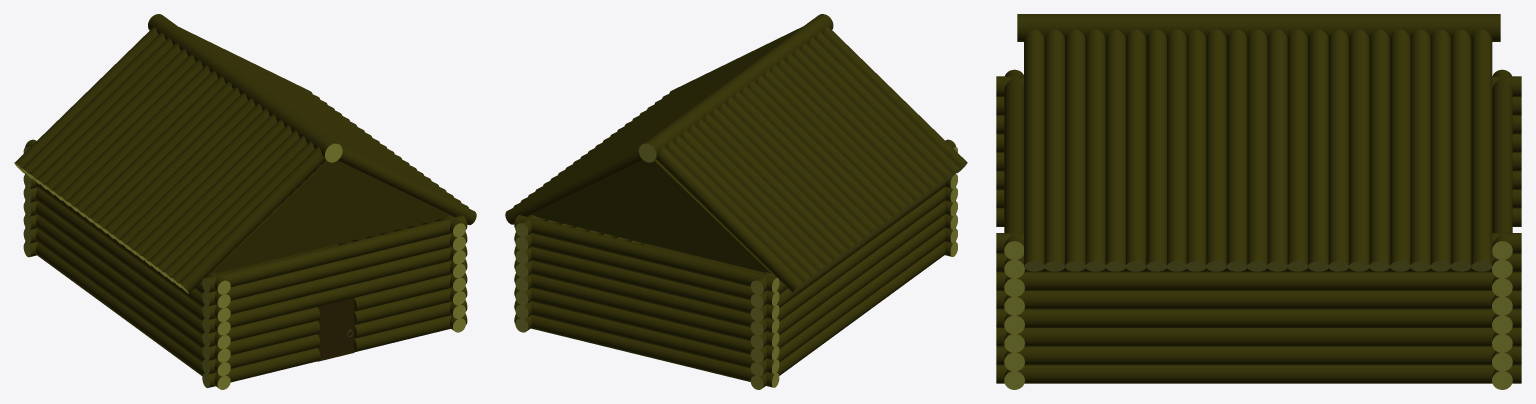
Rendered from Wooden House.fbx.
3 renders of one model, left to right at view 1: azimuth 30°, elevation 25°; view 2: azimuth 150°, elevation 25°; view 3: azimuth 270°, elevation 25°, orthographic. The views are drawn at different scales.
Parts seen in each view (by area): view 1: House; view 2: House; view 3: House.
Boxes of the visible parts, x1,y1,x2,y2 form: House: (14,14,476,389); House: (505,14,967,389); House: (996,14,1521,389).
Bounding box in the file's own units: 177 × 121 × 200.
